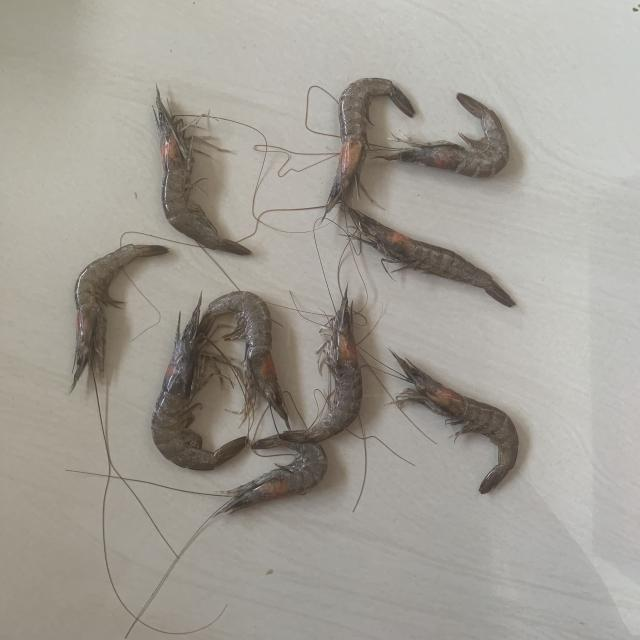shrimp: (391, 350, 519, 494), (251, 290, 363, 449), (349, 207, 516, 307), (151, 297, 246, 471), (155, 85, 251, 255), (69, 244, 168, 392), (325, 77, 415, 214), (198, 291, 288, 422), (381, 93, 510, 177), (215, 443, 327, 515)
